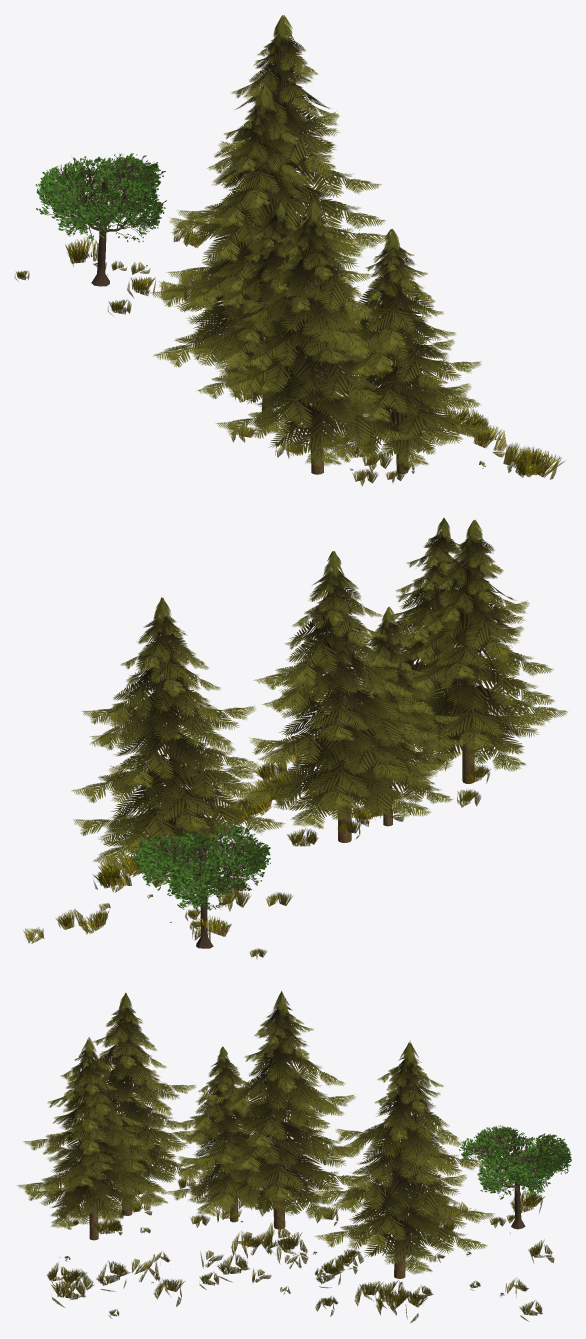
3 renders of one model, top to bottom at view 1: azimuth 30°, elevation 25°; view 2: azimuth 150°, elevation 25°; view 3: azimuth 270°, elevation 25°, orthographic. The views are drawn at different scales.
Parts seen in each view (by area): view 1: Low Poly Stylized 2D Grass.101; view 2: Low Poly Stylized 2D Grass.101; view 3: Low Poly Stylized 2D Grass.101.
Boxes of the visible parts, left/top/right/bottom form: Low Poly Stylized 2D Grass.101: left=14, top=15, right=564, bottom=486; Low Poly Stylized 2D Grass.101: left=23, top=518, right=567, bottom=959; Low Poly Stylized 2D Grass.101: left=17, top=991, right=571, bottom=1323.
Size of the model in its own units: 14.84 by 14.66 by 27.44.
5 materials, 4 textured.
